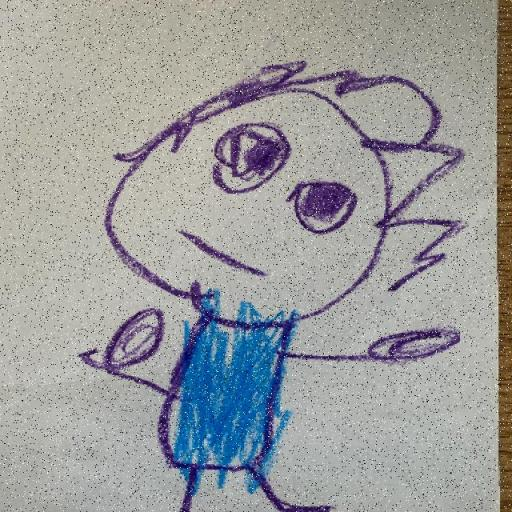person: (75, 58, 464, 512)
